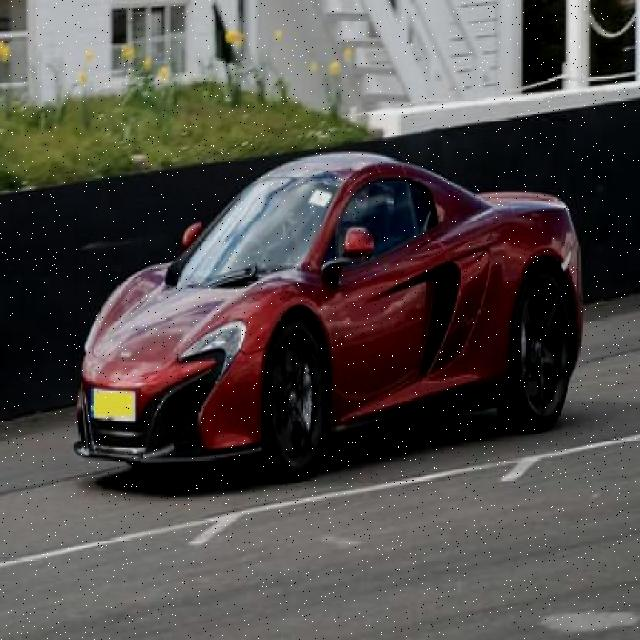licenseplate: (90, 390, 135, 421)
